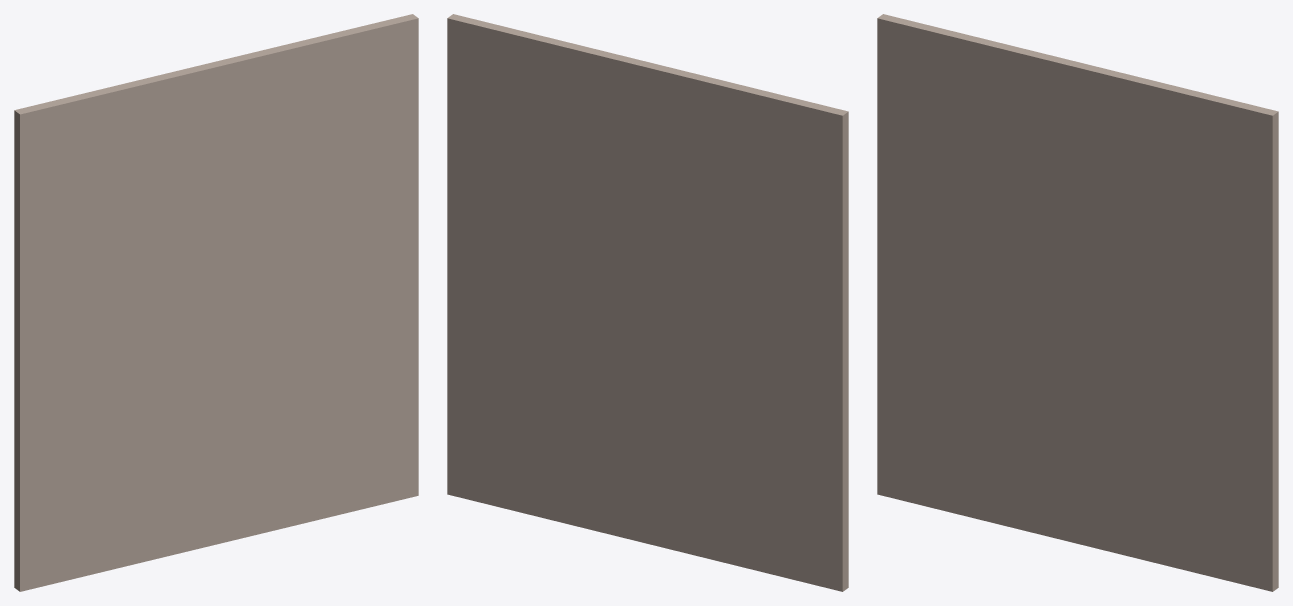
The model's file is mesh158__724c9a18_4965_d64a_ab90_b9cf42c53feb__0_lev1.glb.
The picture shows the model from 3 angles, left to right: view 1: azimuth 30°, elevation 25°; view 2: azimuth 150°, elevation 25°; view 3: azimuth 330°, elevation 25°; orthographic projection.
Parts seen in each view (by area): view 1: mesh158__724c9a18_4965_d64a_ab90_b9cf42c53feb__0_lev1; view 2: mesh158__724c9a18_4965_d64a_ab90_b9cf42c53feb__0_lev1; view 3: mesh158__724c9a18_4965_d64a_ab90_b9cf42c53feb__0_lev1.
Boxes of the visible parts, x1,y1,x2,y2 form: mesh158__724c9a18_4965_d64a_ab90_b9cf42c53feb__0_lev1: [14, 14, 418, 591]; mesh158__724c9a18_4965_d64a_ab90_b9cf42c53feb__0_lev1: [447, 14, 848, 591]; mesh158__724c9a18_4965_d64a_ab90_b9cf42c53feb__0_lev1: [877, 14, 1278, 591].
Bounding box in the file's own units: 6.78 × 7.77 × 0.2045.
